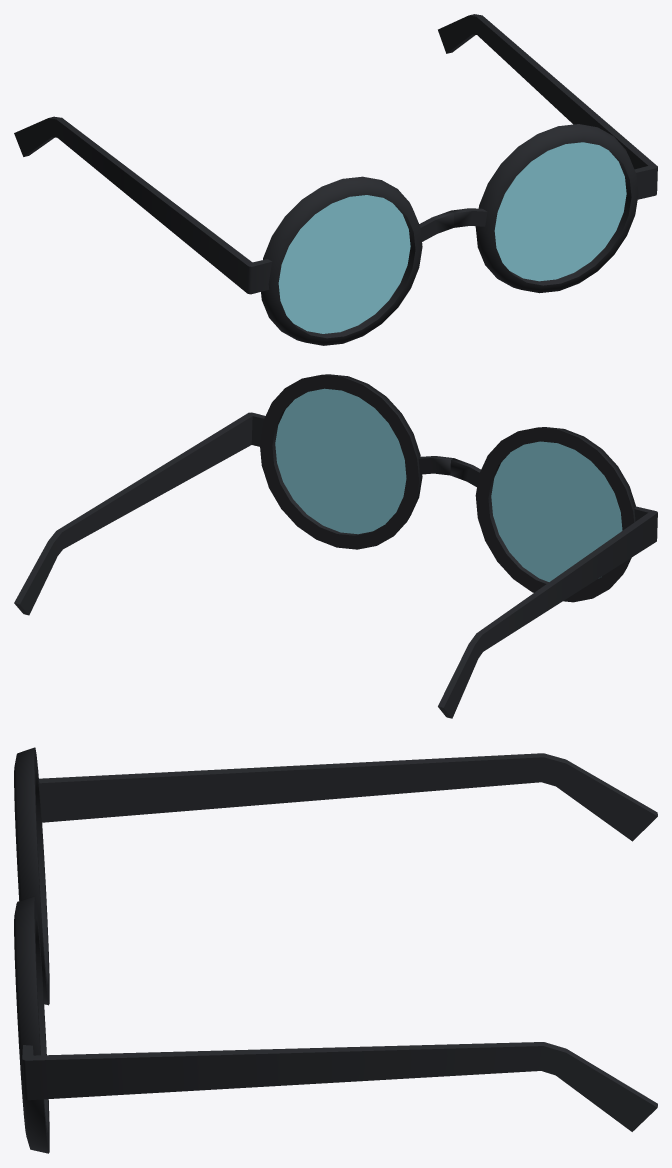
The model's file is SM_Glasses_02a.fbx.
3 renders of one model, top to bottom at view 1: azimuth 30°, elevation 25°; view 2: azimuth 150°, elevation 25°; view 3: azimuth 270°, elevation 25°, orthographic. The views are drawn at different scales.
Visible parts, largest first — view 1: Glasses_01, Glasses_02; view 2: Glasses_02, Glasses_01; view 3: Glasses_02, Glasses_01.
Boxes of the visible parts, <box> form: Glasses_01: <box>14,116,454,345</box>; Glasses_02: <box>438,14,657,293</box>; Glasses_02: <box>14,374,453,615</box>; Glasses_01: <box>438,427,657,718</box>; Glasses_02: <box>14,896,657,1153</box>; Glasses_01: <box>14,747,657,1005</box>.
Size of the model in its own units: 72.25 by 26.78 by 66.59.
